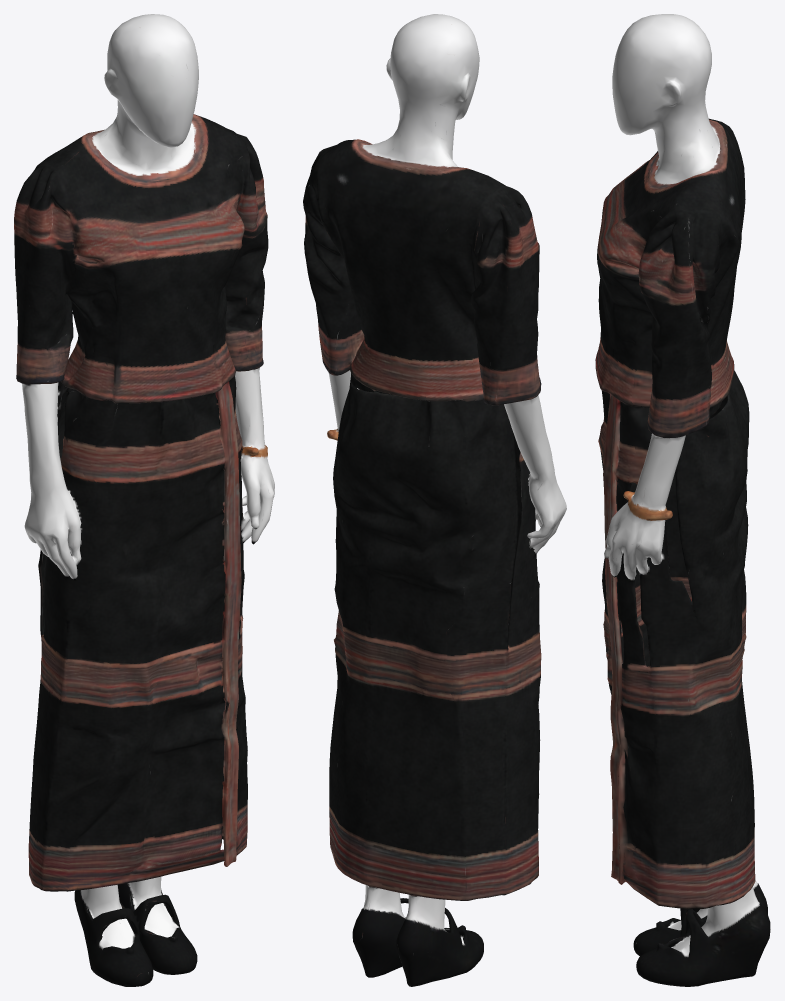
File: M_nong_nu_00001.glb
The picture shows the model from 3 angles, left to right: view 1: azimuth 30°, elevation 25°; view 2: azimuth 150°, elevation 25°; view 3: azimuth 270°, elevation 25°; orthographic projection. The views are drawn at different scales.
Size of the model in its own units: 0.2418 by 0.8981 by 0.1503.
Materials: 1 (1 with a texture image).
